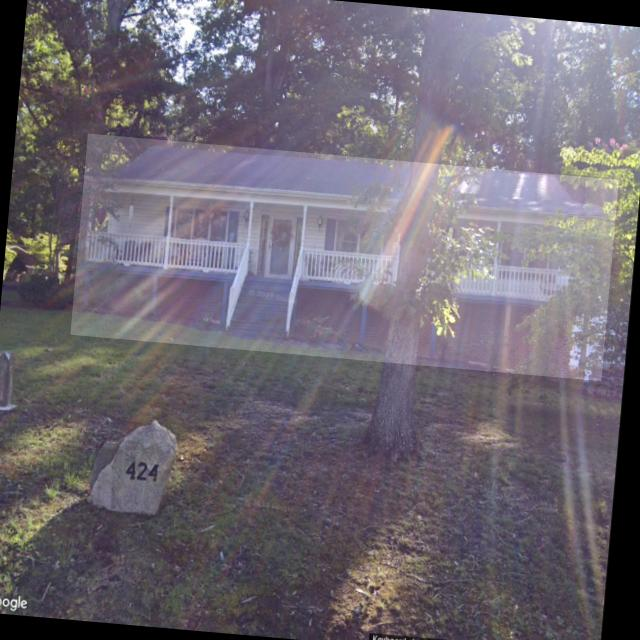House: (70, 133, 618, 381)
